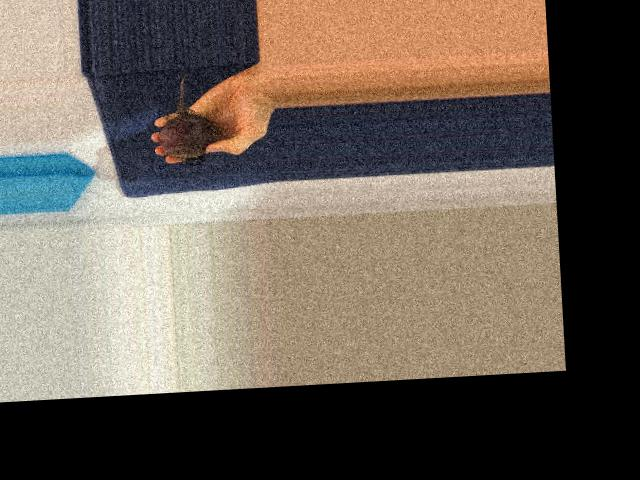beet: (154, 72, 218, 166)
